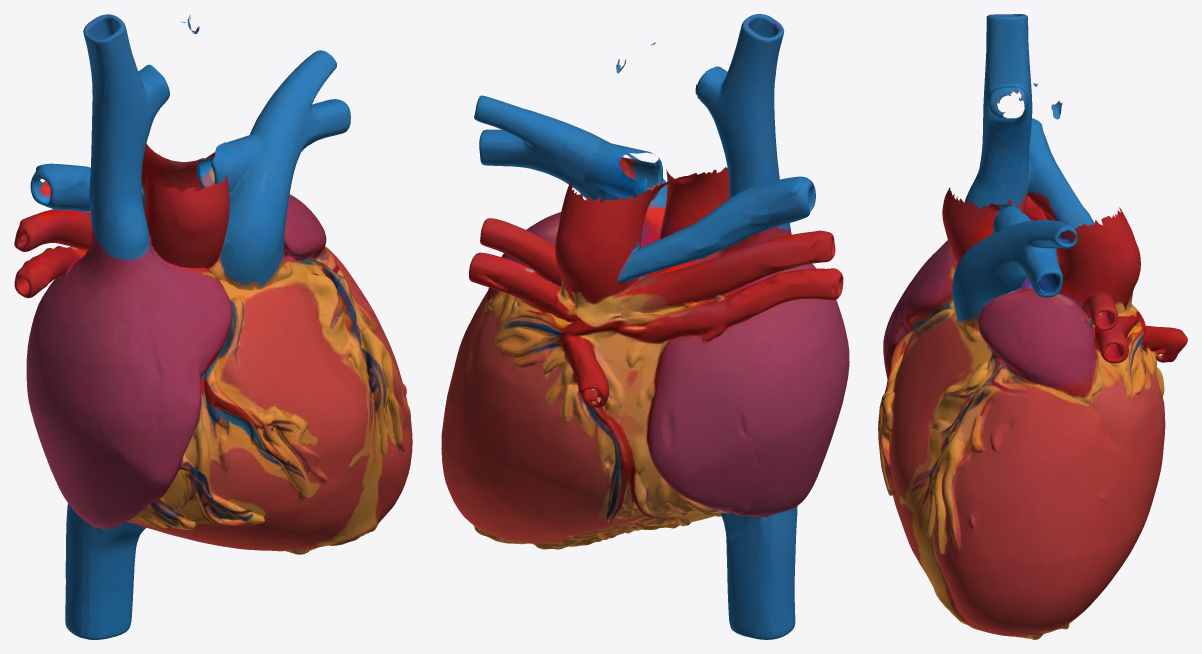
File: heart.glb
3 renders of one model, left to right at view 1: azimuth 30°, elevation 25°; view 2: azimuth 150°, elevation 25°; view 3: azimuth 270°, elevation 25°, orthographic. The views are drawn at different scales.
Parts seen in each view (by area): view 1: Hjerte; view 2: Hjerte; view 3: Hjerte.
Part boxes in pixels (left/top/right/bottom): Hjerte: left=14, top=14, right=412, bottom=639; Hjerte: left=441, top=14, right=849, bottom=639; Hjerte: left=878, top=14, right=1187, bottom=639.
Size of the model in its own units: 2.6 by 3.97 by 2.01.
1 material, 1 textured.
